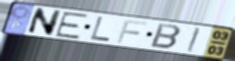B: (149, 22, 184, 50)
E: (53, 11, 90, 40)
F: (115, 18, 149, 44)
I: (185, 26, 202, 54)
L: (89, 16, 112, 43)
N: (26, 7, 64, 37)
